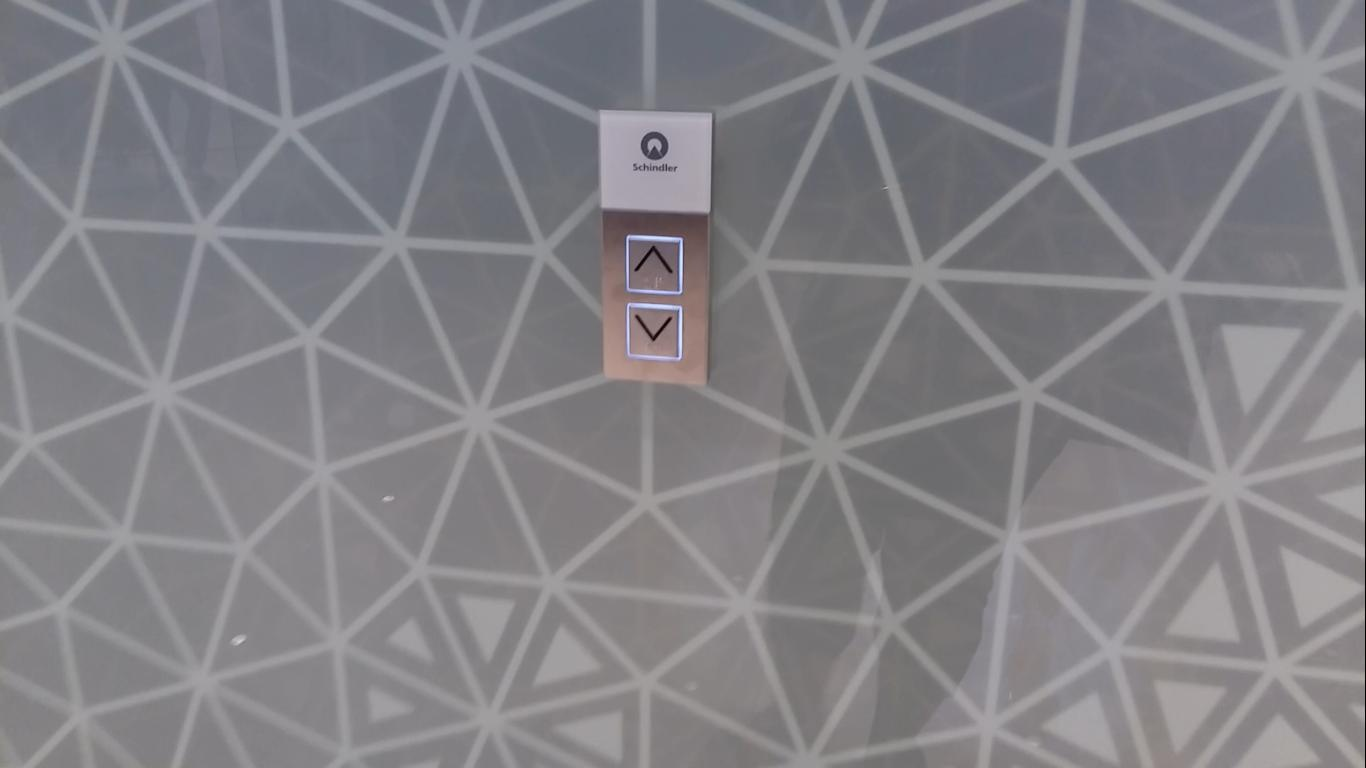down: (624, 301, 683, 360)
up: (624, 234, 686, 298)
